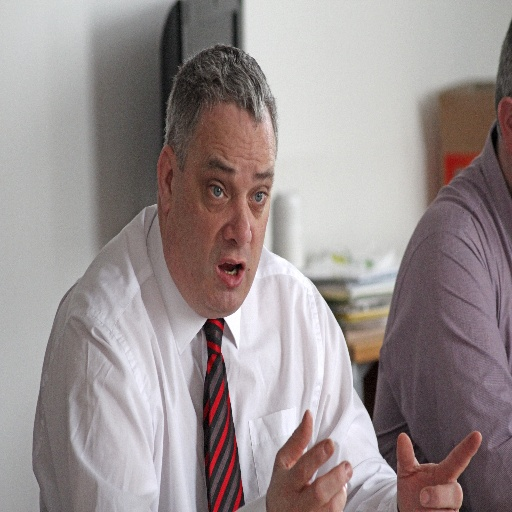hand: (262, 406, 353, 511), (389, 421, 487, 507)
